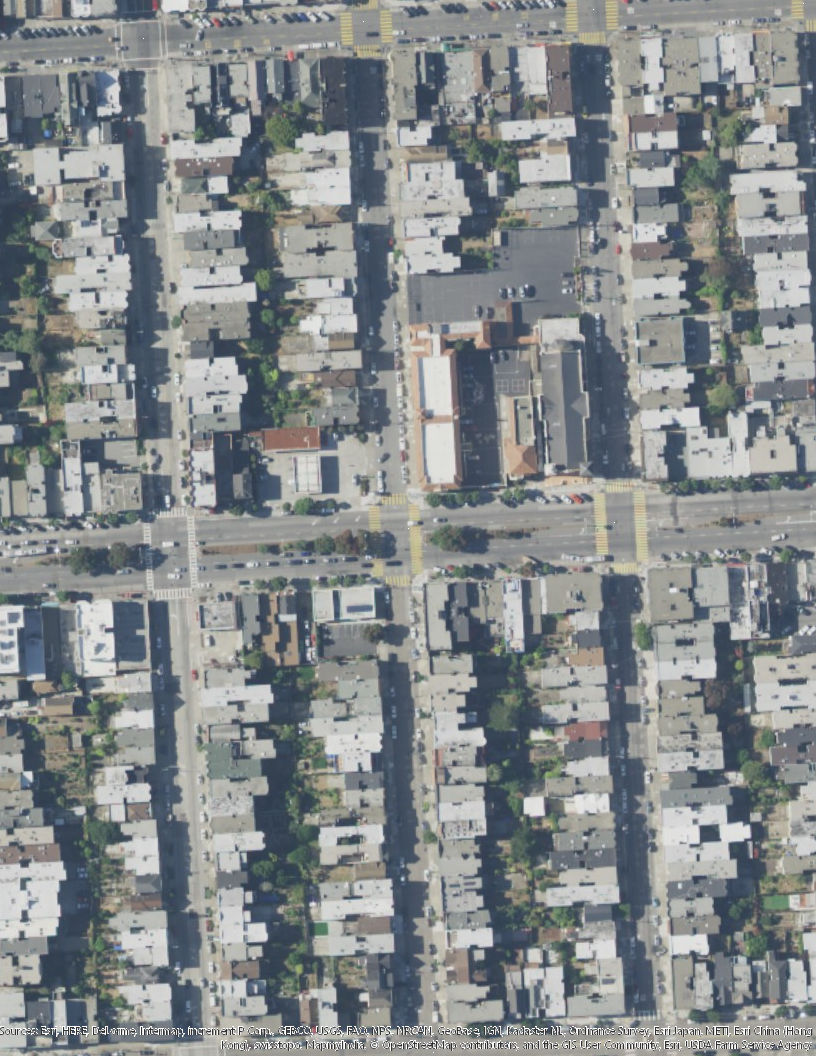zebracross: (367, 505, 385, 578), (632, 491, 651, 560), (406, 505, 425, 573), (185, 517, 200, 588), (140, 522, 155, 590), (593, 493, 609, 556), (338, 11, 354, 45), (378, 10, 395, 42), (382, 573, 412, 590), (604, 479, 634, 495), (152, 588, 188, 601), (564, 1, 579, 31), (604, 1, 620, 29), (610, 561, 642, 575), (149, 506, 186, 518), (634, 1008, 664, 1022), (578, 32, 607, 46), (380, 491, 408, 505), (354, 44, 382, 57), (350, 1, 378, 10)
